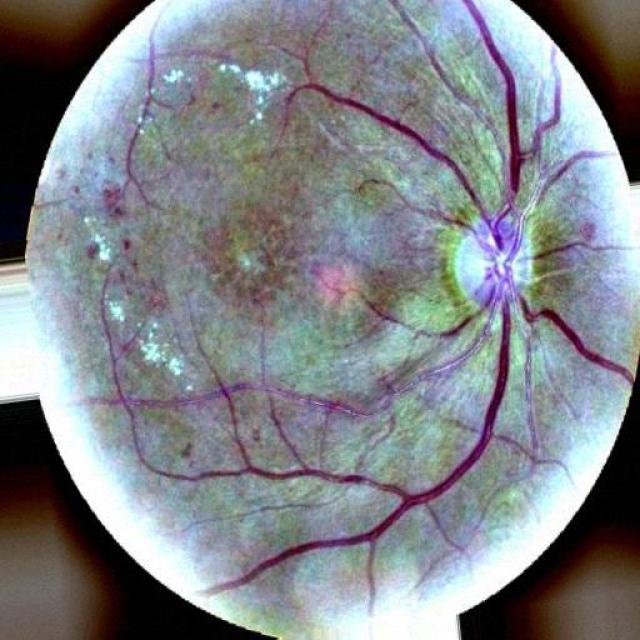Macula: (222, 223, 271, 289)
Nerves: (286, 0, 632, 555)
Optic Disk: (455, 220, 531, 309)
